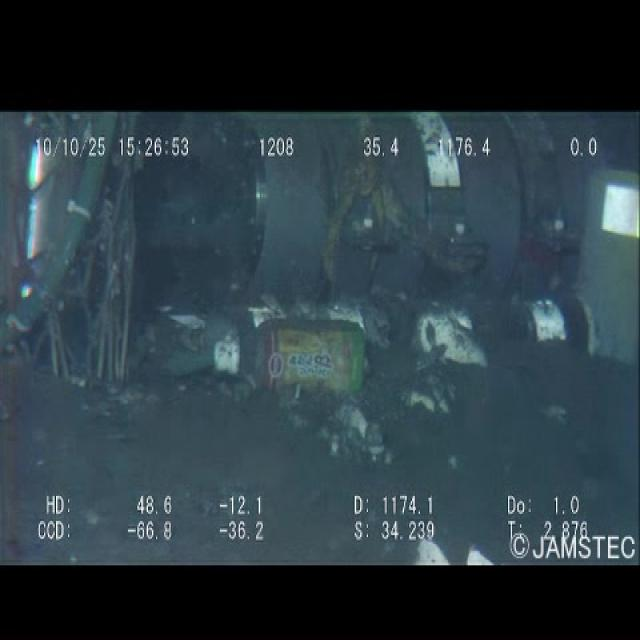plastic: (206, 313, 378, 393)
